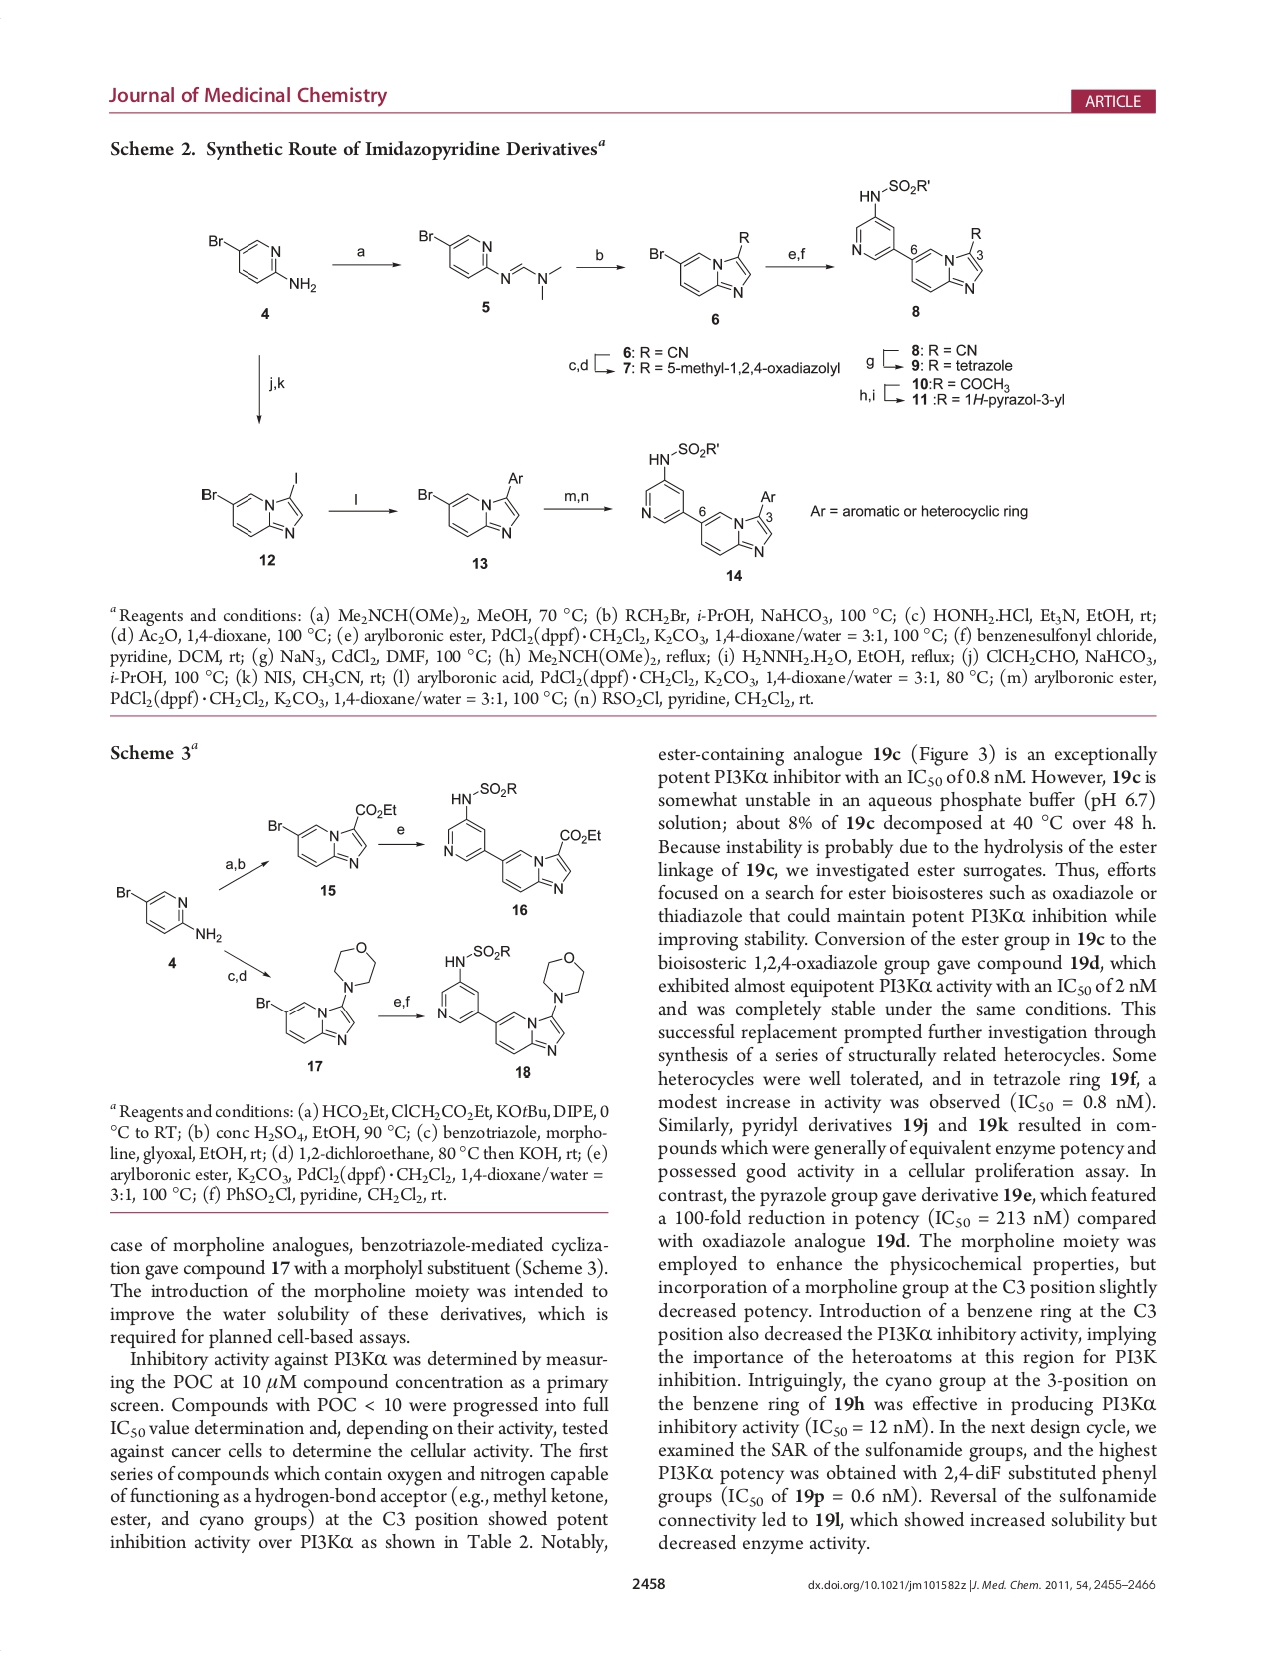exist_molecular: (442, 779, 602, 896), (846, 173, 989, 302), (434, 939, 586, 1057), (636, 438, 778, 559), (253, 940, 378, 1047), (415, 223, 563, 301), (265, 801, 398, 868), (412, 469, 527, 540), (203, 227, 319, 297), (648, 227, 758, 299), (198, 469, 307, 540), (110, 880, 223, 947)
